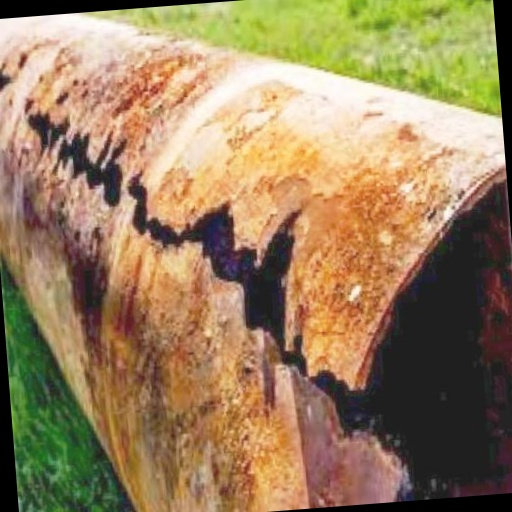crack: (123, 217, 440, 454), (64, 119, 262, 369), (48, 127, 193, 268)
